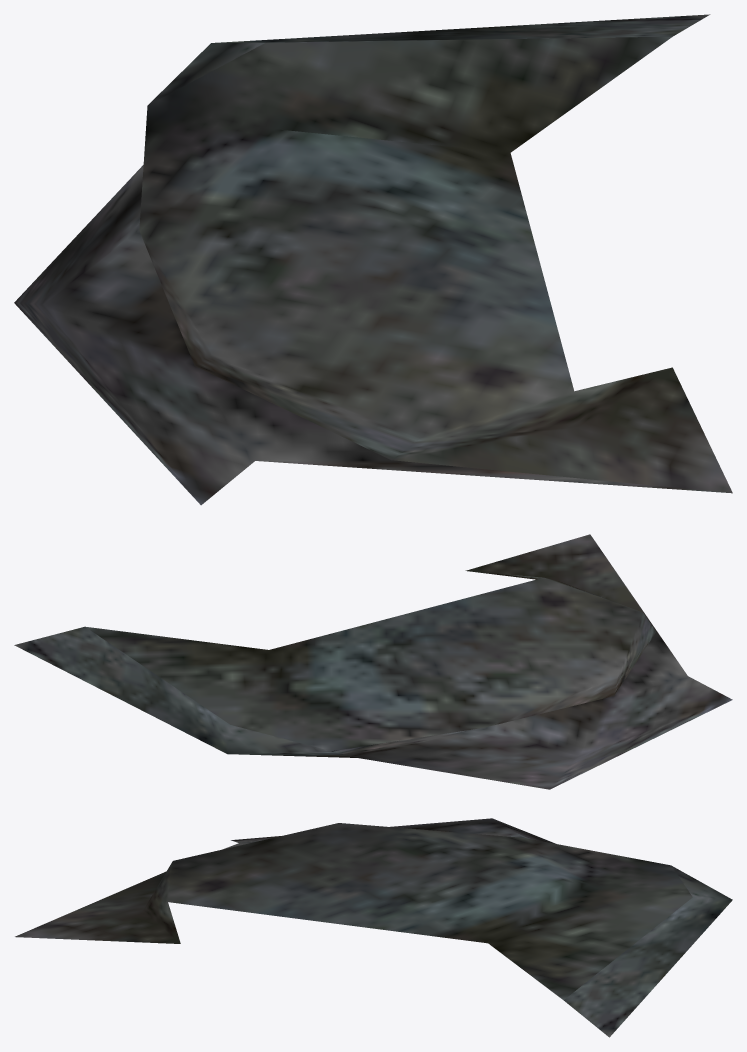
File: S_Rock_Yellow034_H13.FBX
3 views of the same model, one above another, from view 1: azimuth 30°, elevation 25°; view 2: azimuth 150°, elevation 25°; view 3: azimuth 270°, elevation 25° (orthographic). The views are drawn at different scales.
Visible parts, largest first — view 1: S_Rock_Yellow034_H13; view 2: S_Rock_Yellow034_H13; view 3: S_Rock_Yellow034_H13.
Part boxes in pixels (box(x1,y1,x2,y2)): S_Rock_Yellow034_H13: box(14, 14, 732, 505); S_Rock_Yellow034_H13: box(14, 534, 732, 789); S_Rock_Yellow034_H13: box(15, 818, 732, 1037).
Bounding box in the file's own units: 545 × 635 × 75.
1 material, 1 textured.
